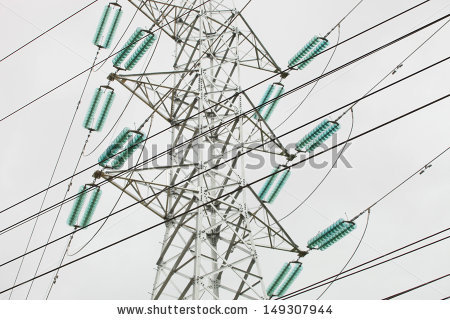isolator: (97, 128, 145, 169), (112, 28, 157, 70), (307, 217, 356, 251), (65, 186, 102, 228), (296, 119, 341, 152), (287, 34, 328, 70), (82, 88, 116, 130), (92, 5, 123, 48), (256, 167, 292, 203), (265, 262, 302, 296), (253, 84, 284, 121)
